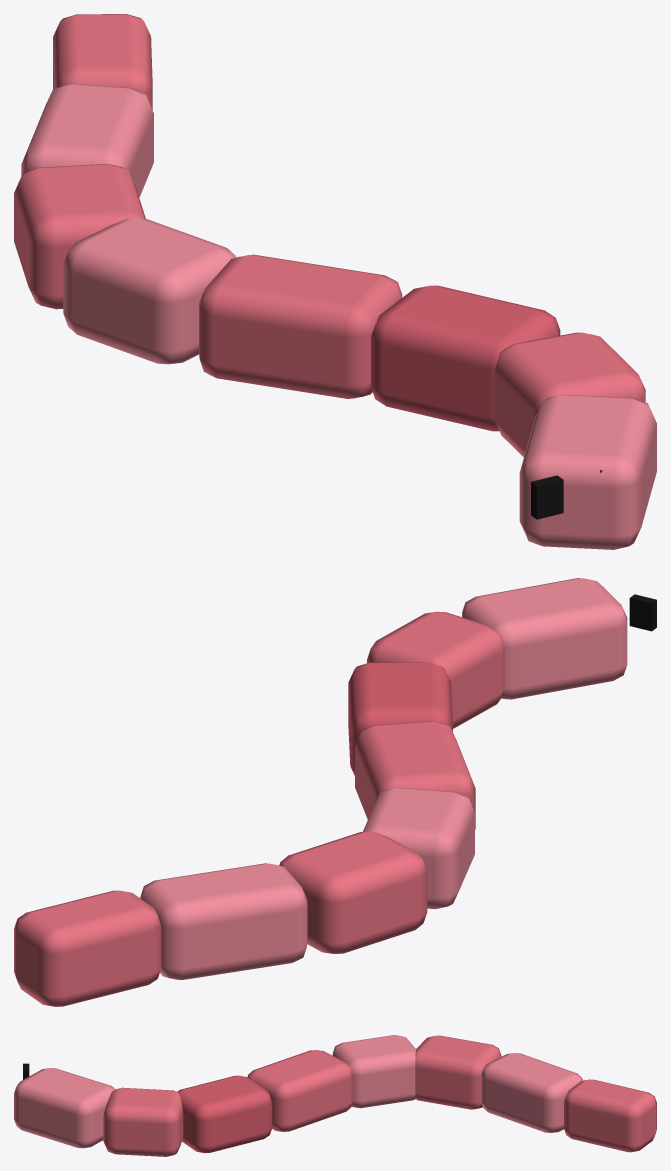
File: wormG.glb
3 views of the same model, one above another, from view 1: azimuth 30°, elevation 25°; view 2: azimuth 150°, elevation 25°; view 3: azimuth 270°, elevation 25° (orthographic). The views are drawn at different scales.
Parts seen in each view (by area): view 1: Geo_Earthworm; view 2: Geo_Earthworm; view 3: Geo_Earthworm.
Boxes of the visible parts, x1,y1,x2,y2 form: Geo_Earthworm: [14, 14, 656, 549]; Geo_Earthworm: [14, 578, 656, 1006]; Geo_Earthworm: [14, 1035, 656, 1156].
Bounding box in the file's own units: 15.83 × 4.47 × 52.18.
Materials: 1 (1 with a texture image).
